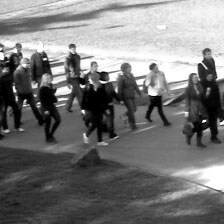person: (14, 57, 42, 131), (81, 73, 107, 148), (143, 61, 172, 125), (201, 67, 223, 144), (118, 61, 142, 130), (36, 73, 59, 143), (98, 69, 119, 138), (185, 72, 204, 148), (64, 42, 84, 113), (32, 39, 53, 98), (1, 65, 14, 142), (197, 47, 217, 81), (81, 59, 102, 84), (9, 41, 24, 70)
